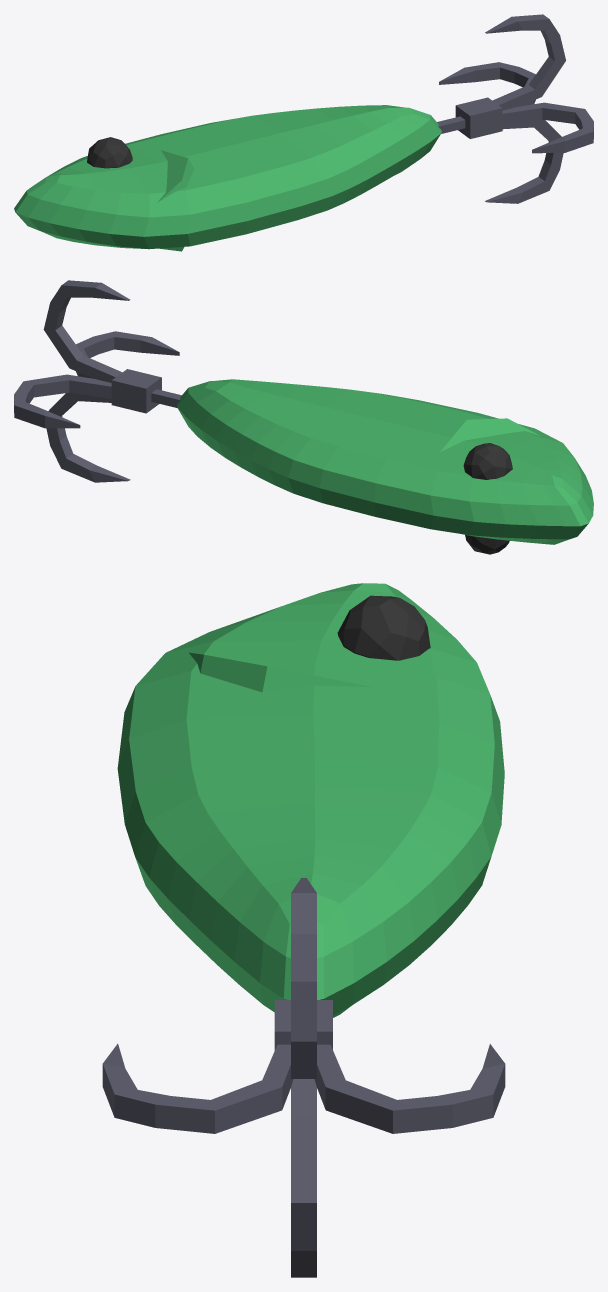
Rendered from Lure_1.glb.
The picture shows the model from 3 angles, top to bottom: view 1: azimuth 30°, elevation 25°; view 2: azimuth 150°, elevation 25°; view 3: azimuth 270°, elevation 25°; orthographic projection. The views are drawn at different scales.
Parts seen in each view (by area): view 1: Lure_1; view 2: Lure_1; view 3: Lure_1.
Boxes of the visible parts, x1=… form: Lure_1: x1=14, y1=14, x2=593, y2=251; Lure_1: x1=14, y1=280, x2=593, y2=554; Lure_1: x1=102, y1=583, x2=505, y2=1277.
Size of the model in its own units: 1.87 by 0.6167 by 0.6167.
